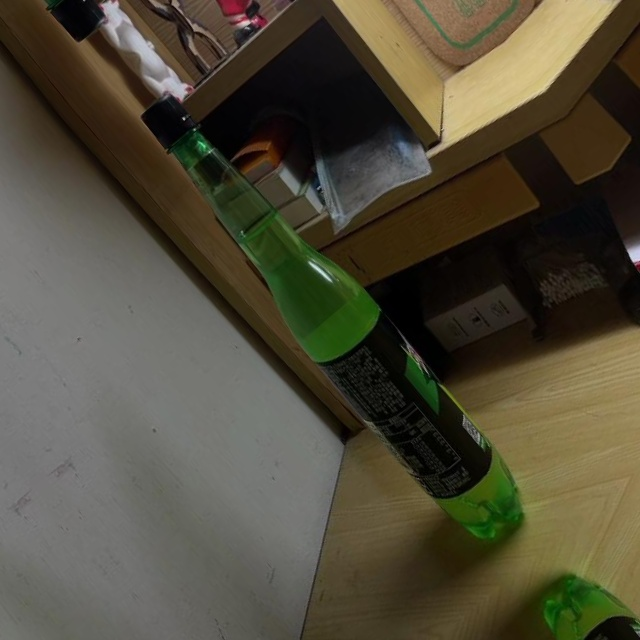Mountain-Dew: (118, 75, 545, 560)
